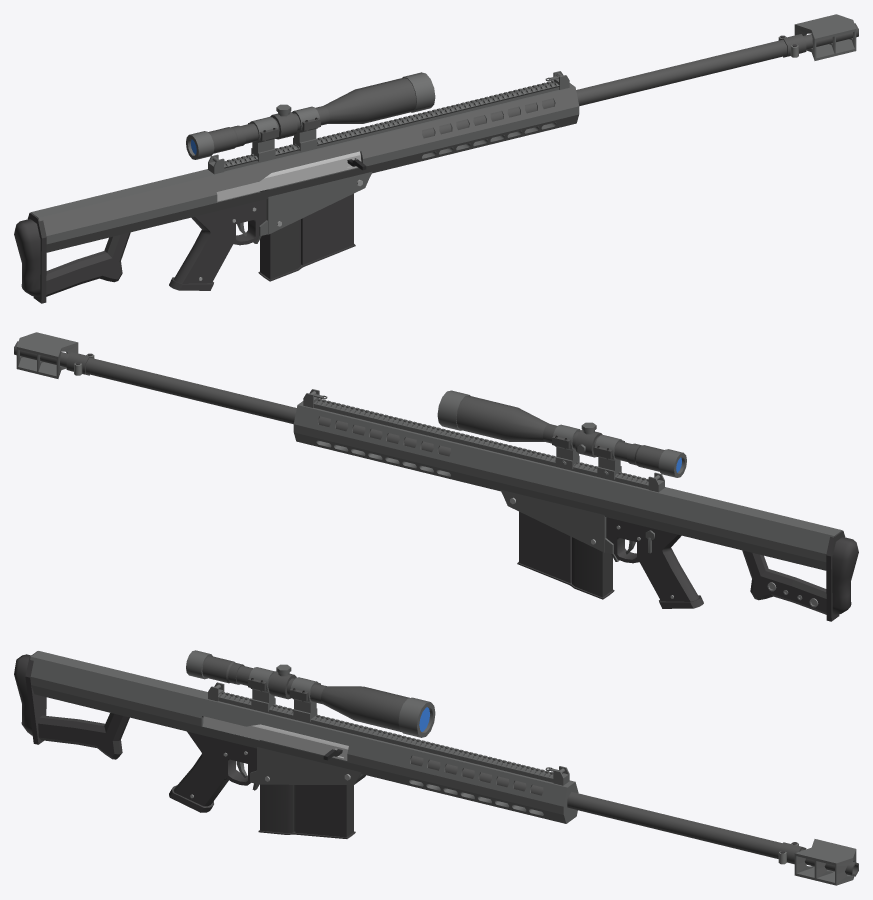
The model's file is Barret_M82A1_Mesh.fbx.
The picture shows the model from 3 angles, top to bottom: view 1: azimuth 30°, elevation 25°; view 2: azimuth 150°, elevation 25°; view 3: azimuth 330°, elevation 25°; orthographic projection.
Visible parts, largest first — view 1: Barret_M82A1; view 2: Barret_M82A1; view 3: Barret_M82A1.
Boxes of the visible parts, <box> form: Barret_M82A1: <box>14,14,858,303</box>; Barret_M82A1: <box>14,332,858,621</box>; Barret_M82A1: <box>14,650,858,885</box>.
Size of the model in its own units: 1.09 by 0.2056 by 0.0662.
